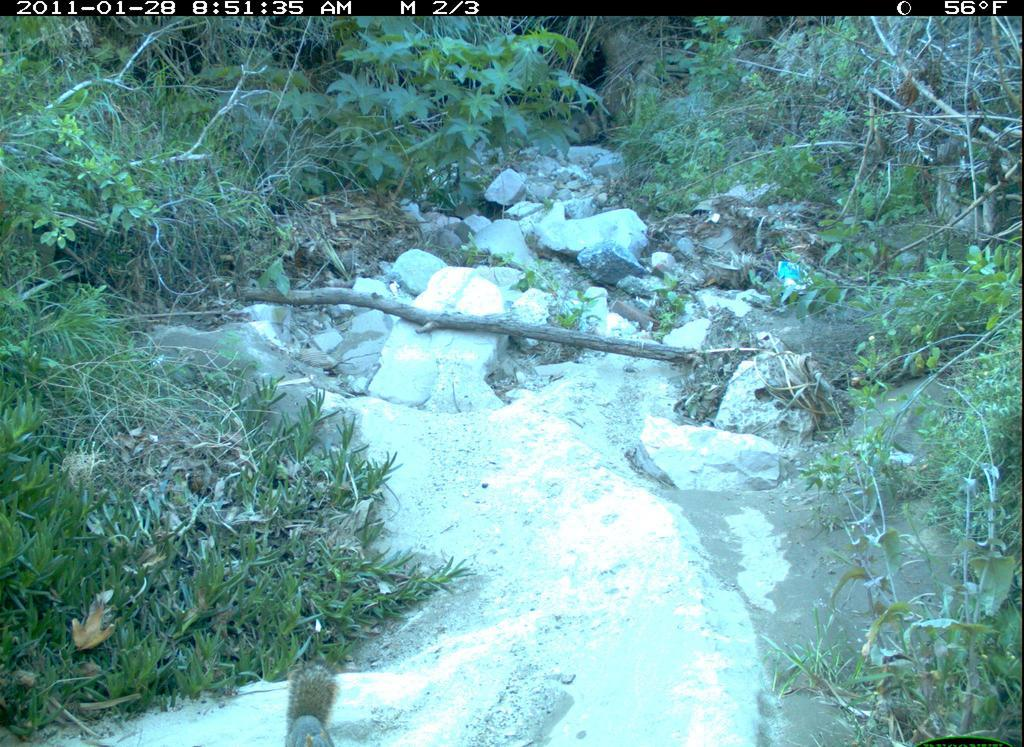squirrel: (259, 655, 361, 743)
